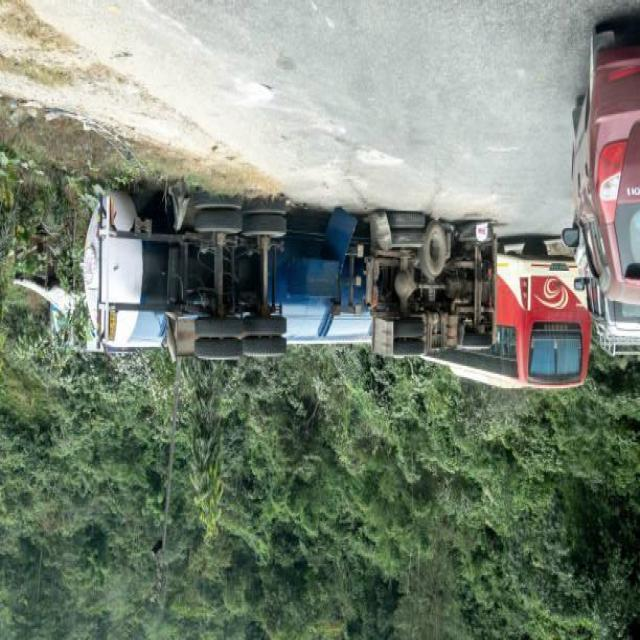severe: (52, 186, 504, 370)
